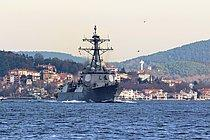MIL_Ship: (54, 23, 125, 104)
